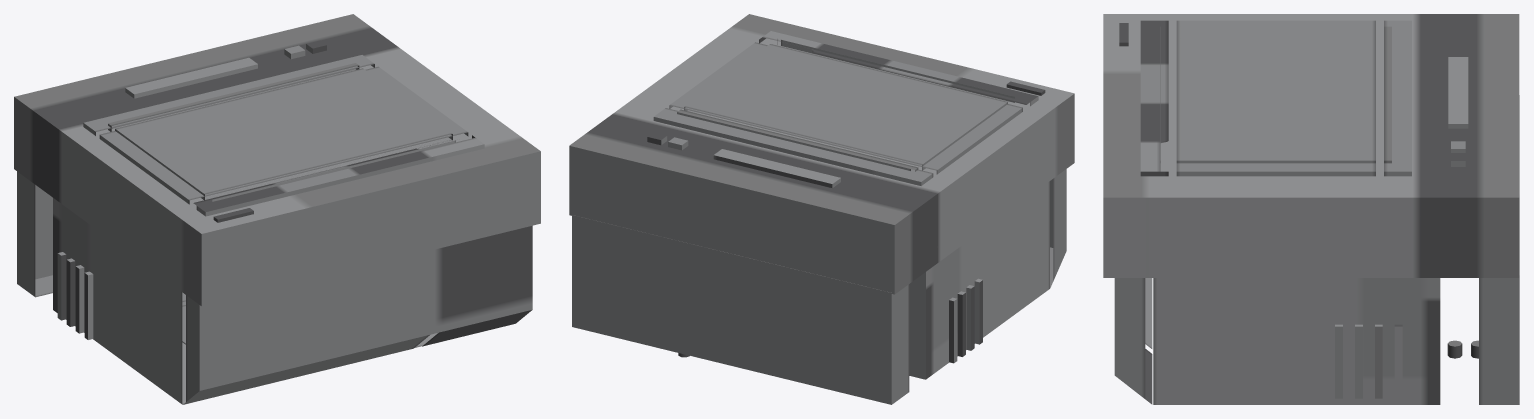
3 views of the same model, side by side, from view 1: azimuth 30°, elevation 25°; view 2: azimuth 150°, elevation 25°; view 3: azimuth 270°, elevation 25° (orthographic). The views are drawn at different scales.
Bounding box in the file's own units: 0.676 × 0.376 × 0.6295.
